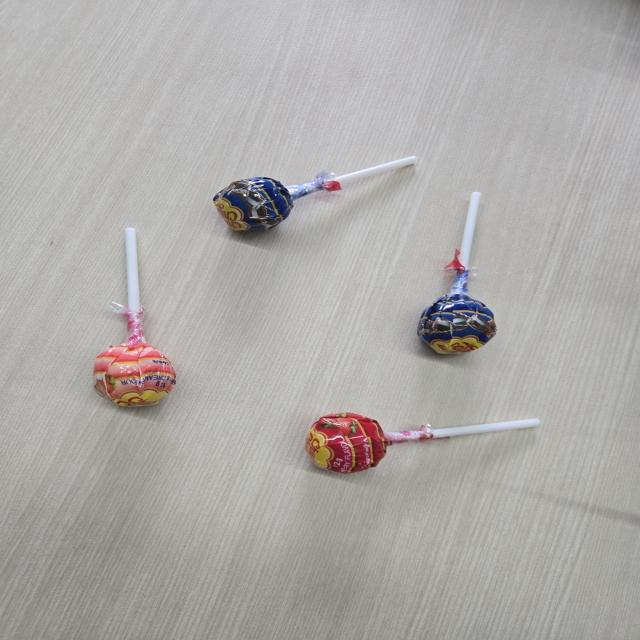lollipop: (211, 152, 420, 238), (90, 225, 181, 413), (304, 409, 543, 478), (415, 188, 497, 362)
